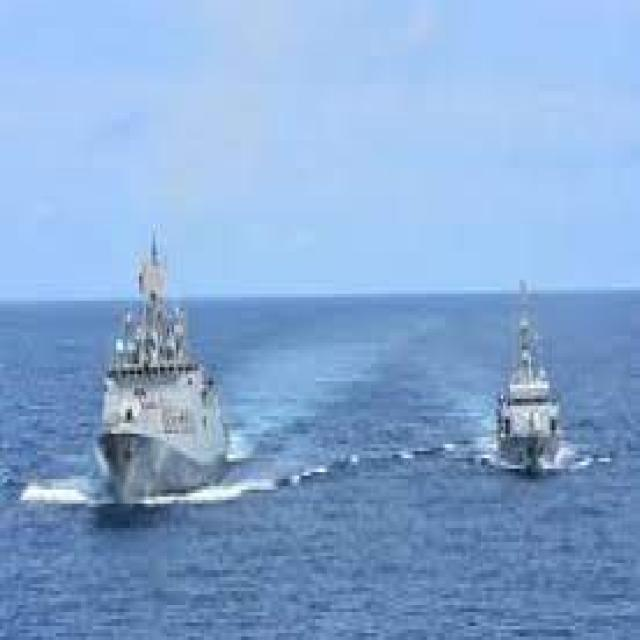navalvessels: (96, 224, 221, 504), (484, 287, 579, 476)
